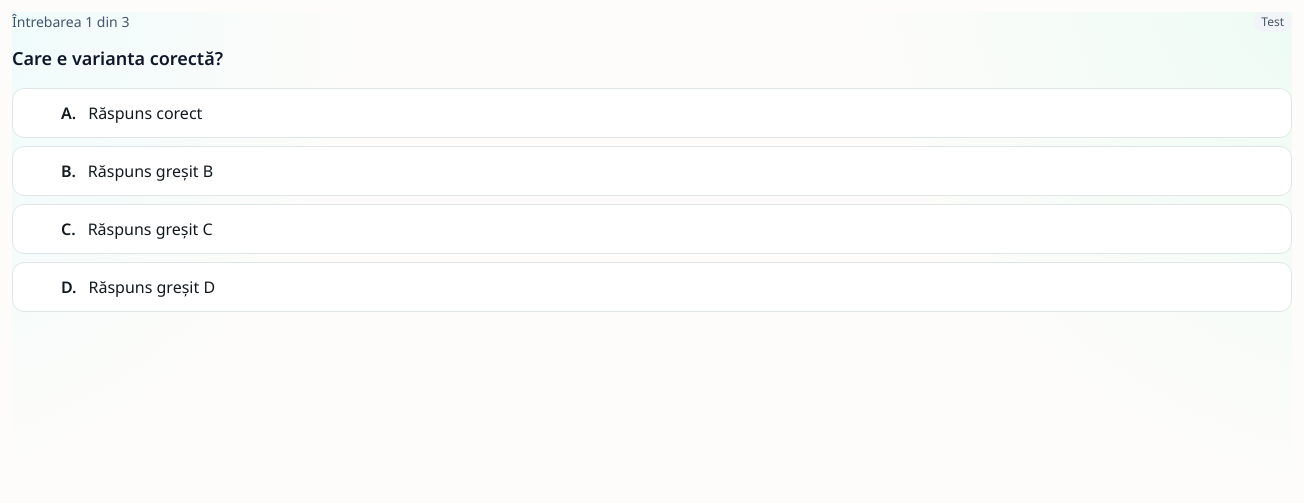
QuestionCard - single › afișează Finalizează testul când este ultima
Step 1. Click the text "Răspuns greșit D" → (152, 287), box [88,276,215,298]
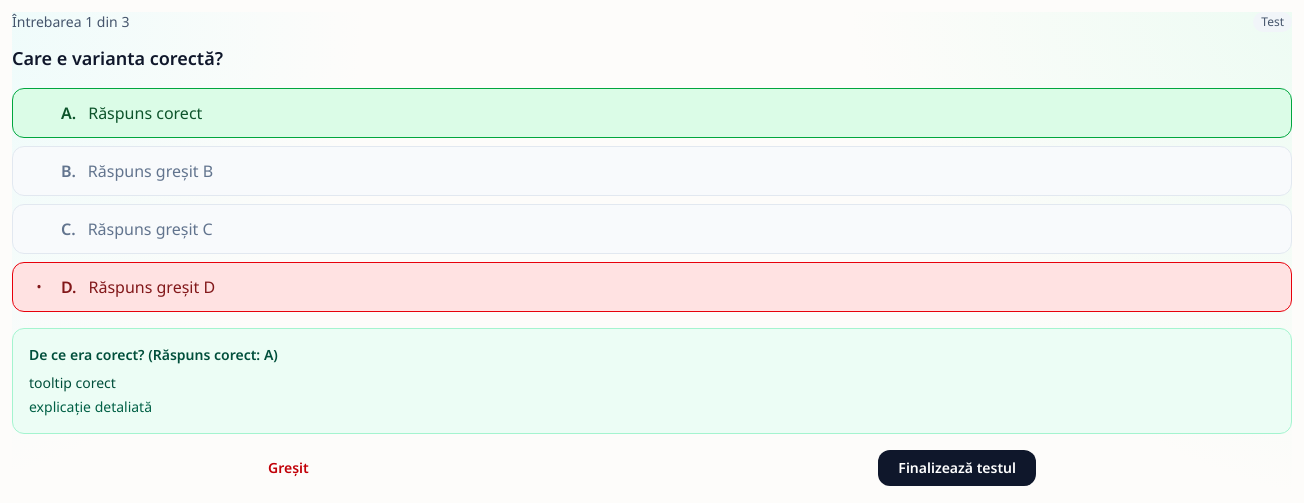
Now the button "Finalizează testul" is shown, box [878,450,1036,486]
